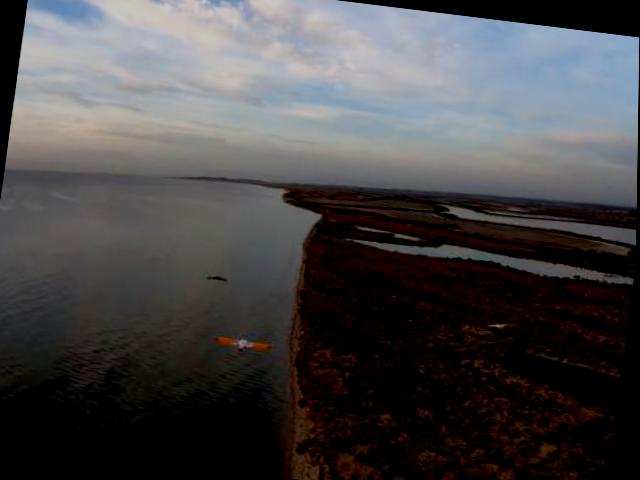uav: (215, 330, 276, 357)
